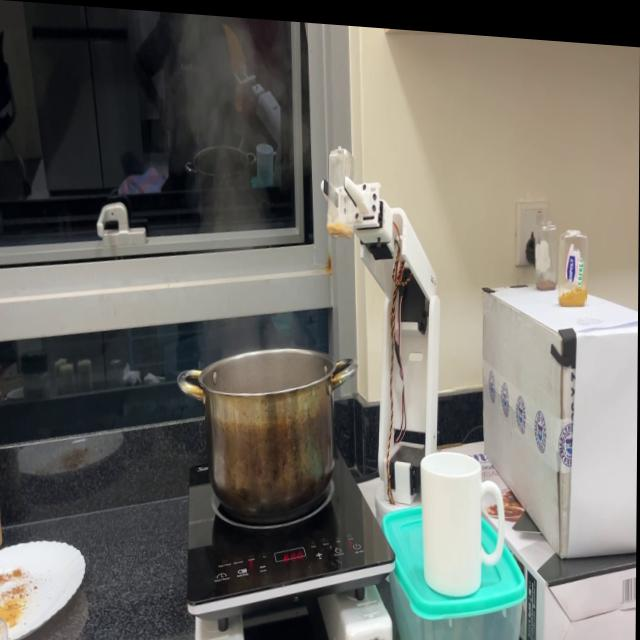cooking_pot: (179, 334, 358, 518)
curry_powder: (559, 271, 587, 300)
garlic_powder: (326, 213, 354, 237)
maggie_open: (536, 264, 556, 281)
